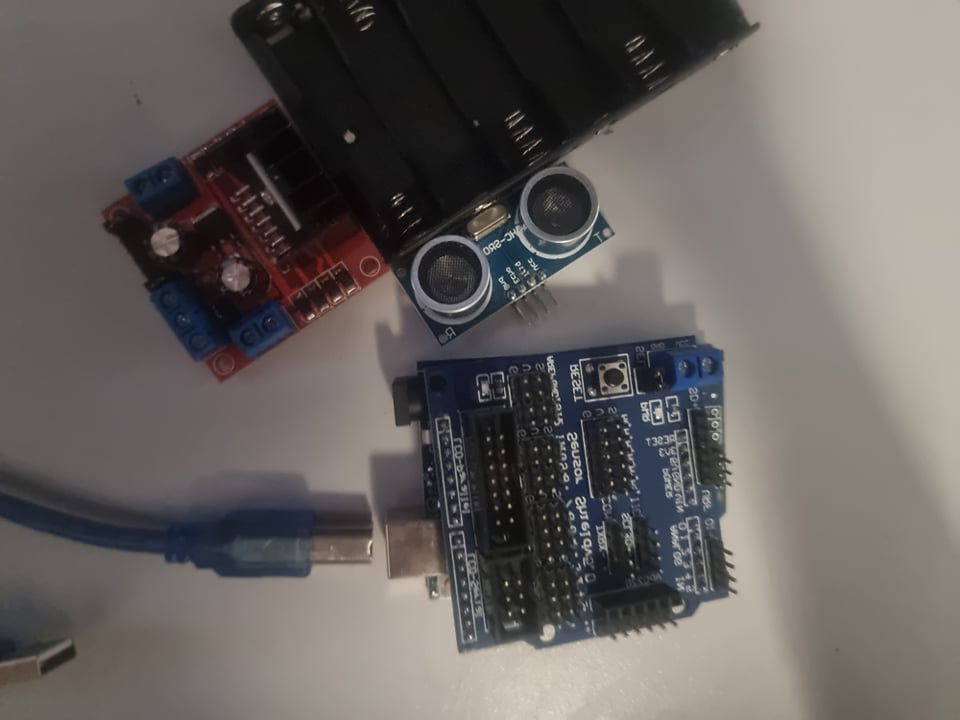BATTERY BOX: (231, 1, 754, 267)
MOTOR: (103, 99, 387, 390)
SENSOR: (398, 167, 616, 349)
UNO R3: (449, 348, 736, 662)
